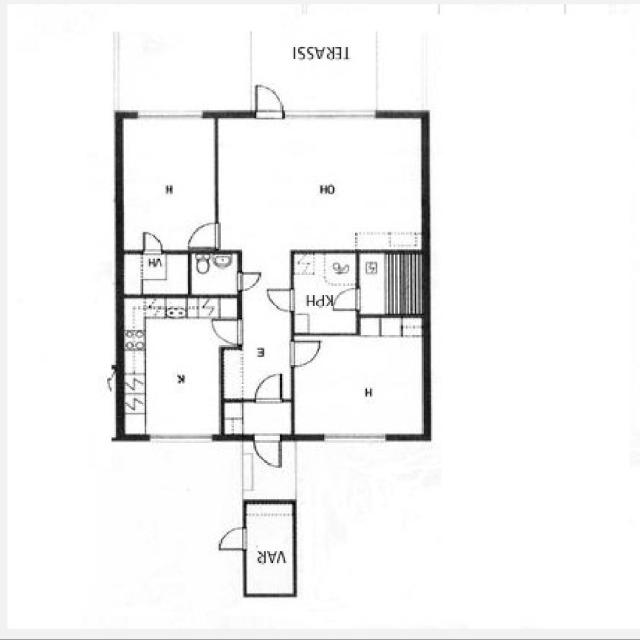door: (291, 250, 358, 338), (249, 80, 286, 121), (250, 432, 284, 471), (185, 218, 224, 252), (206, 315, 246, 348), (250, 370, 286, 405), (287, 337, 325, 370), (264, 283, 302, 315), (329, 284, 363, 314), (214, 525, 248, 554), (233, 268, 264, 294), (137, 229, 165, 256)
window: (282, 104, 378, 125), (130, 105, 213, 123), (144, 429, 216, 449), (317, 429, 391, 447)
zone: (214, 114, 424, 252), (292, 318, 427, 438), (120, 297, 230, 439), (121, 114, 219, 253), (292, 250, 359, 336), (355, 248, 428, 318), (242, 500, 294, 596), (119, 253, 185, 298), (188, 251, 239, 298)
